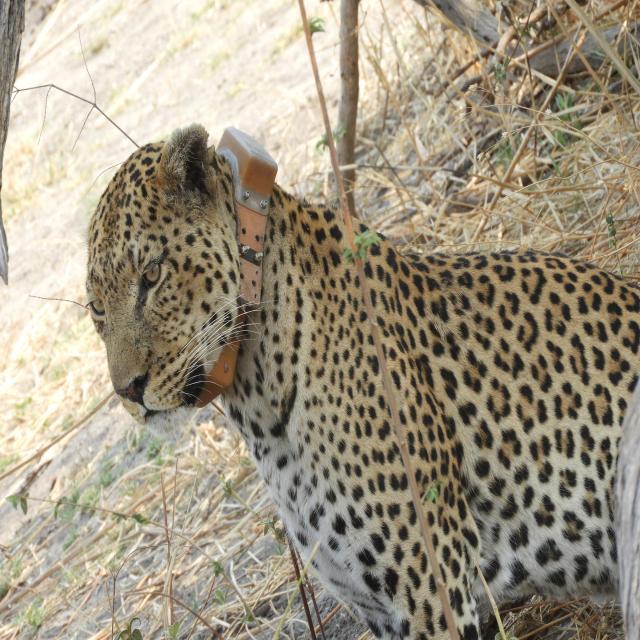Leopard: (67, 126, 640, 640)
